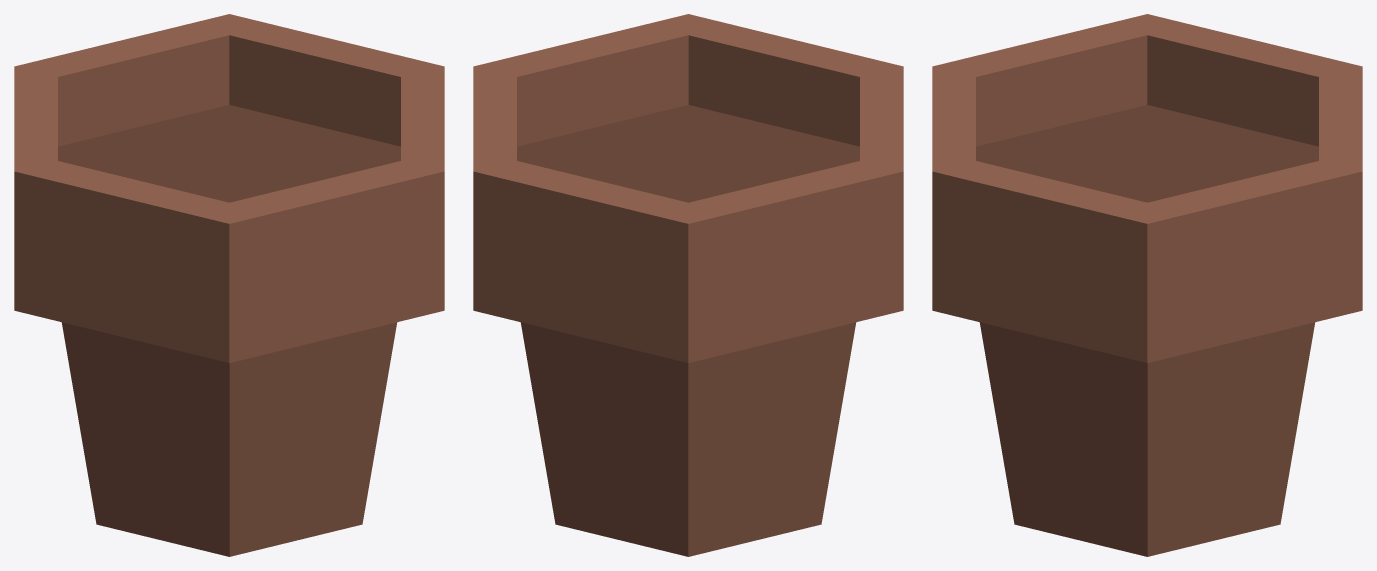
Rendered from pot_small.glb.
3 renders of one model, left to right at view 1: azimuth 30°, elevation 25°; view 2: azimuth 150°, elevation 25°; view 3: azimuth 270°, elevation 25°, orthographic.
Parts seen in each view (by area): view 1: pot_small; view 2: pot_small; view 3: pot_small.
Part boxes in pixels (bbox=[...]): pot_small: bbox=[14, 14, 444, 556]; pot_small: bbox=[473, 14, 903, 556]; pot_small: bbox=[932, 14, 1362, 556].
Size of the model in its own units: 0.3234 by 0.268 by 0.2801.
